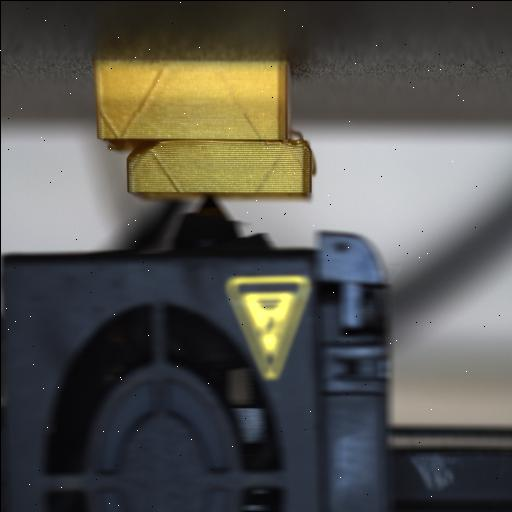layer_shift: (93, 128, 311, 160)
